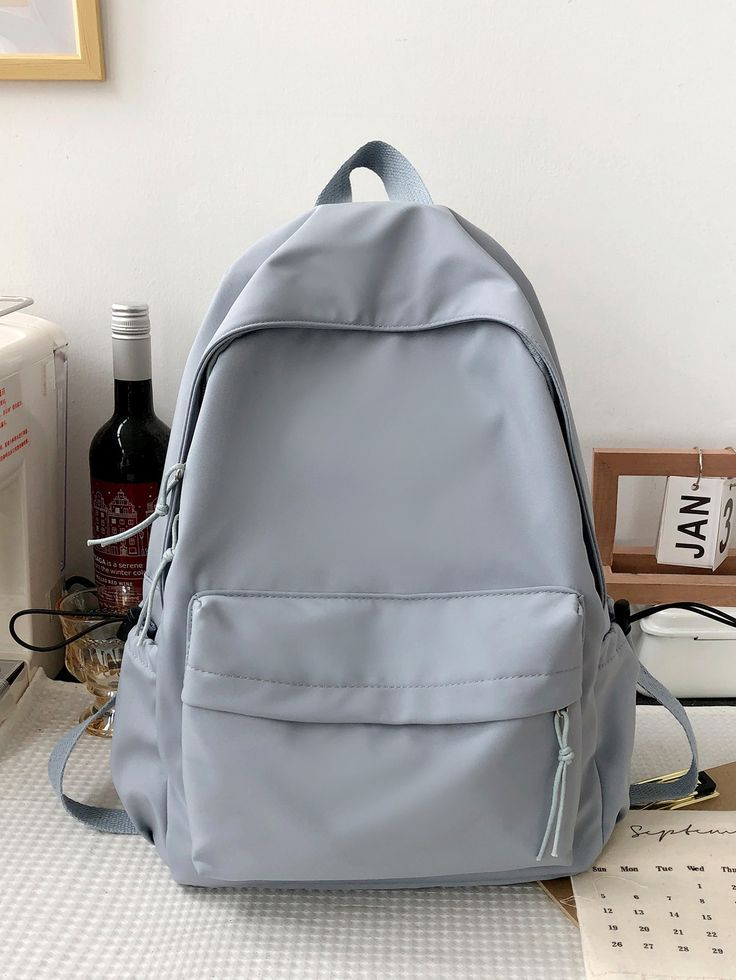nylon: (49, 140, 698, 891)
